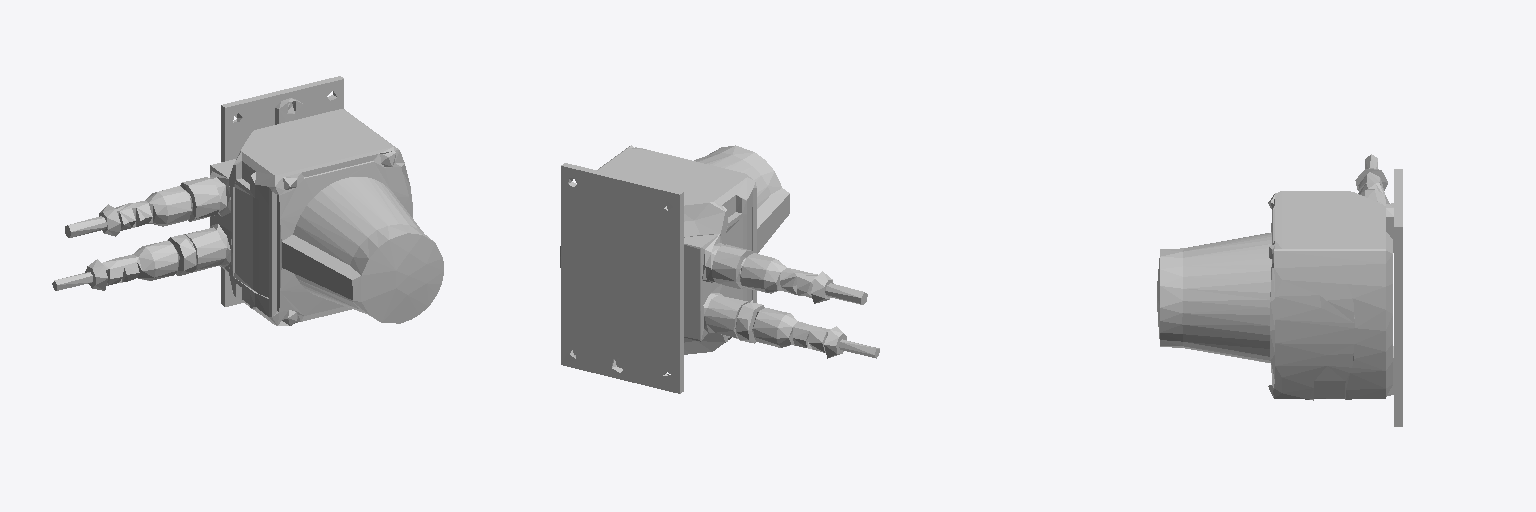
3 views of the same model, side by side, from view 1: azimuth 30°, elevation 25°; view 2: azimuth 150°, elevation 25°; view 3: azimuth 270°, elevation 25° (orthographic).
Visible parts, largest first — view 1: sick_tim551_sick_tim551.002; view 2: sick_tim551_sick_tim551.002; view 3: sick_tim551_sick_tim551.002.
Boxes of the visible parts, x1,y1,x2,y2 form: sick_tim551_sick_tim551.002: [52, 76, 443, 325]; sick_tim551_sick_tim551.002: [560, 145, 879, 393]; sick_tim551_sick_tim551.002: [1157, 154, 1402, 426].
Size of the model in its own units: 0.1304 by 0.08 by 0.0894.